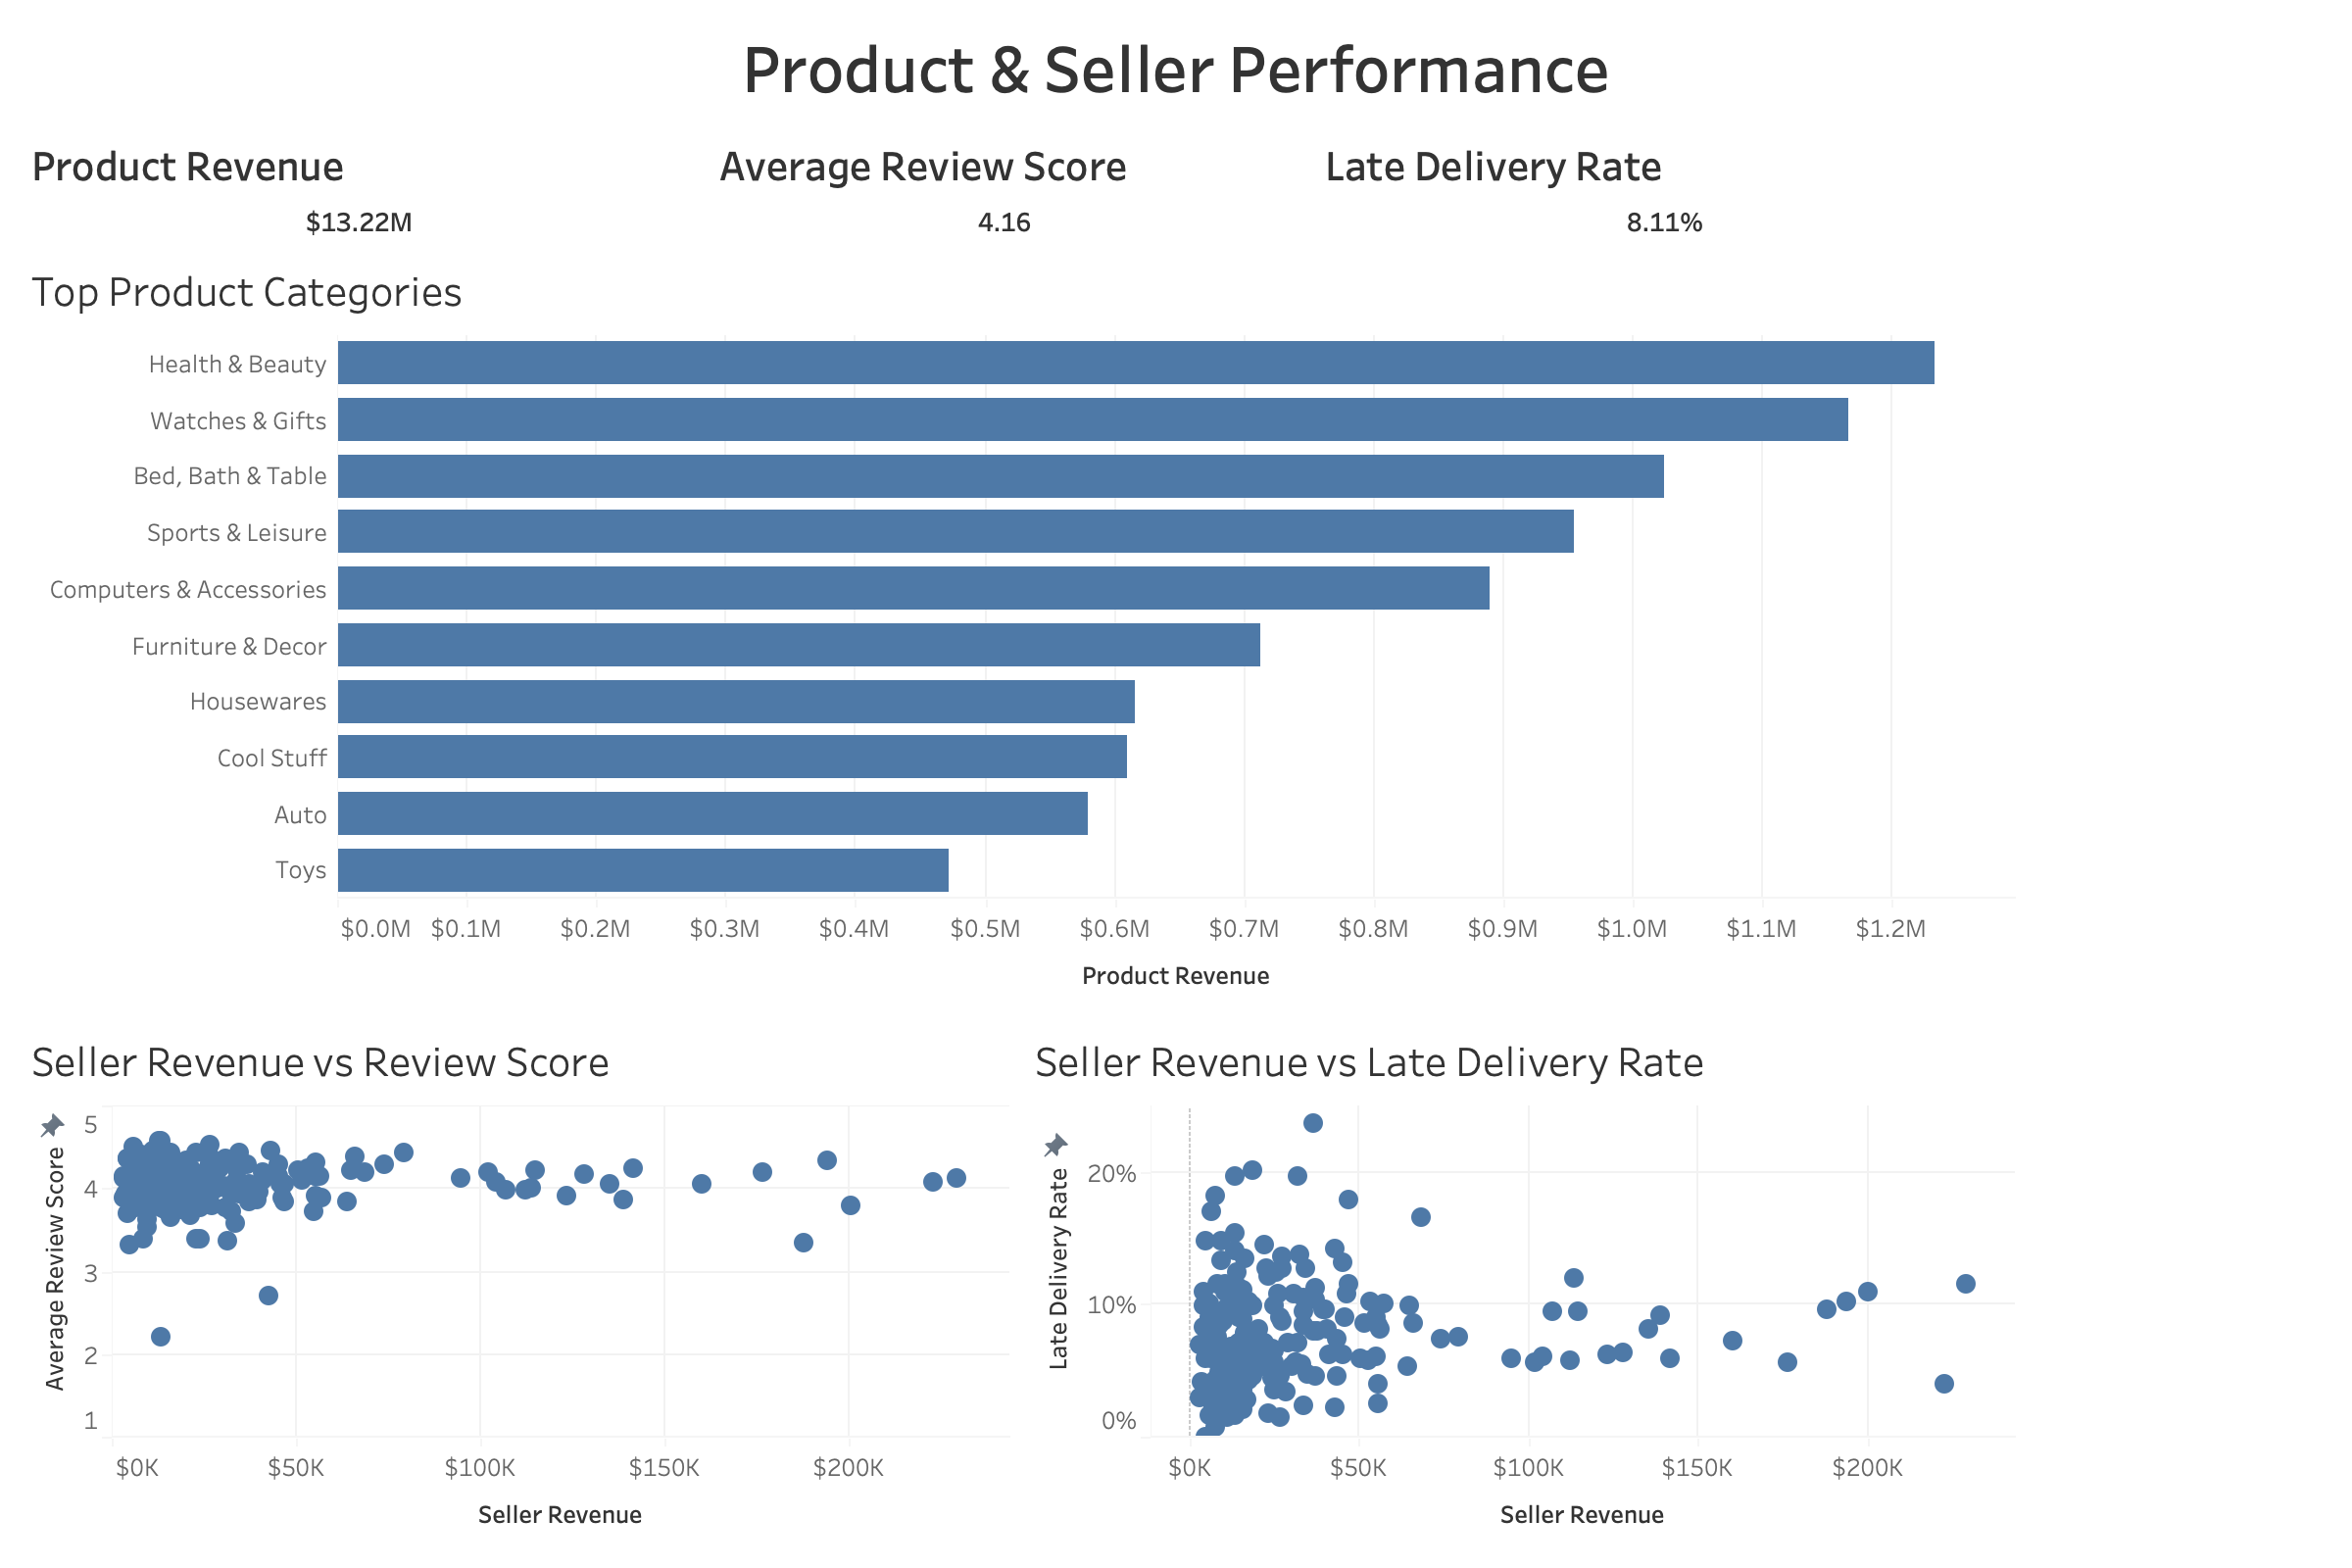

This screenshot's page, from the dashboard's own definition file:
{"tool":"tableau","page":{"name":"Product & Seller Performance","canvas":[1200,800],"ordinal":3},"visuals":[{"type":"title","box":[8,8,1184,52]},{"type":"worksheet","title":"KPI - Product Revenue","mark":"Automatic","box":[8,60,350.7,64]},{"type":"worksheet","title":"KPI - Average Review Score","mark":"Automatic","box":[358.7,60,309.1,64]},{"type":"worksheet","title":"KPI - Late Delivery Rate","mark":"Automatic","box":[667.8,60,364.2,64]},{"type":"legend","title":"Seller Revenue vs Review Score","param":"[federated.07ruuem16jlpmf16fn3zk04wrmd3].[sum:item_price:qk]","box":[1032,60,160,22]},{"type":"worksheet","title":"Top Product Categories","mark":"Automatic","rows":["product_category_name_english"],"cols":["item_price"],"box":[8,124,1024,393]},{"type":"worksheet","title":"Seller Revenue vs Review Score","mark":"Circle","rows":["average_review_score"],"cols":["item_price"],"box":[8,517,512,275]},{"type":"worksheet","title":"Seller Revenue vs Late Delivery Rate","mark":"Circle","rows":["Calculation_0177003503202315"],"cols":["item_price"],"box":[520,517,512,275]}]}

Visuals, with their boxes in screenshot pixels (x1, y1, x2, y2), scaled from the page's 1200x800 canvas onto the 2352x1568 screenshot:
title: Rect(16, 16, 2336, 118)
"KPI - Product Revenue" worksheet: Rect(16, 118, 703, 243)
"KPI - Average Review Score" worksheet: Rect(703, 118, 1309, 243)
"KPI - Late Delivery Rate" worksheet: Rect(1309, 118, 2023, 243)
"Seller Revenue vs Review Score" legend: Rect(2023, 118, 2336, 161)
"Top Product Categories" worksheet: Rect(16, 243, 2023, 1013)
"Seller Revenue vs Review Score" worksheet (Circle marks): Rect(16, 1013, 1019, 1552)
"Seller Revenue vs Late Delivery Rate" worksheet (Circle marks): Rect(1019, 1013, 2023, 1552)
